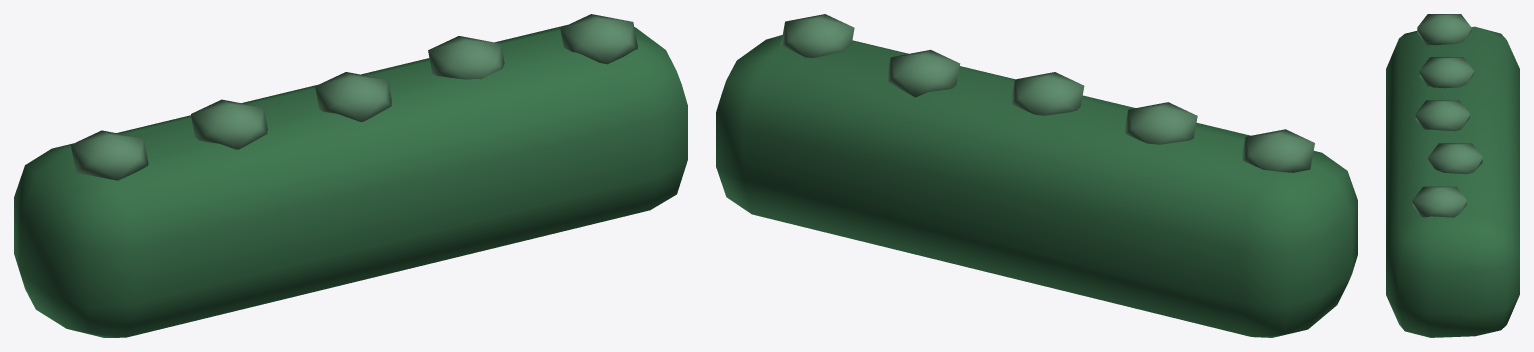
The model's file is box_edging.glb.
3 renders of one model, left to right at view 1: azimuth 30°, elevation 25°; view 2: azimuth 150°, elevation 25°; view 3: azimuth 270°, elevation 25°, orthographic. The views are drawn at different scales.
Parts seen in each view (by area): view 1: box_edging; view 2: box_edging; view 3: box_edging.
Boxes of the visible parts, x1,y1,x2,y2 form: box_edging: (14, 14, 687, 337); box_edging: (716, 14, 1357, 337); box_edging: (1386, 14, 1519, 337).
Size of what is drawn, in the model's own units: 1.66 by 0.49 by 0.42.
